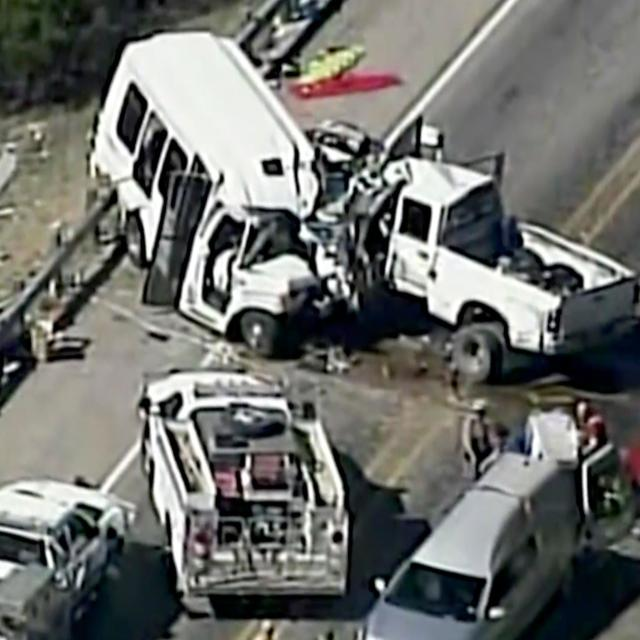traffic_incident: (307, 100, 640, 387), (83, 29, 354, 347), (139, 350, 346, 615), (0, 466, 134, 640)
